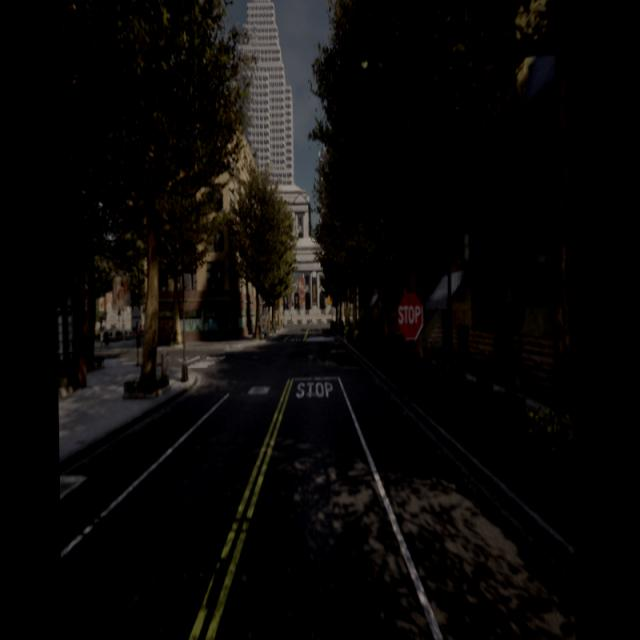stop sign: (394, 289, 425, 342)
